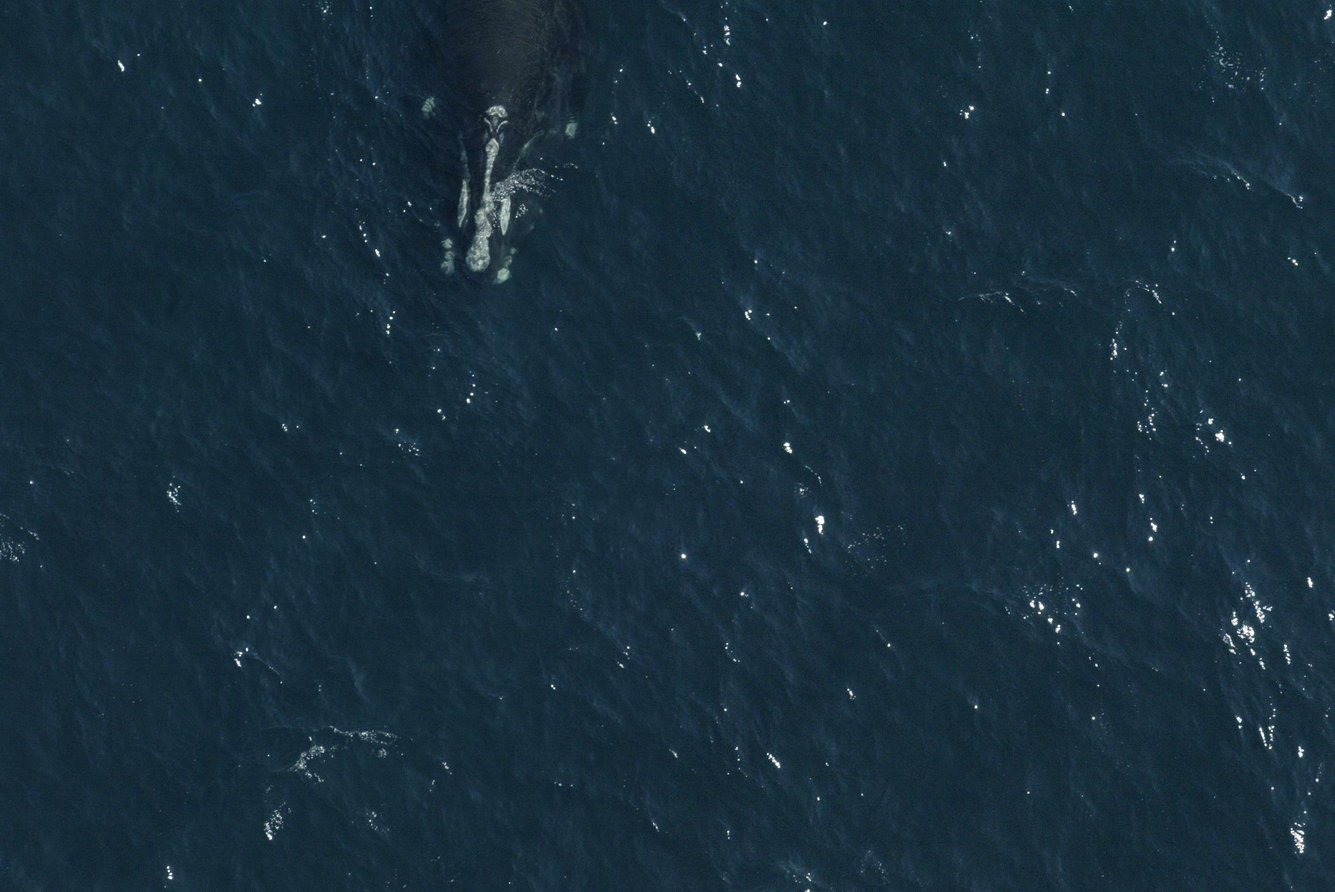whale: (385, 0, 610, 295)
